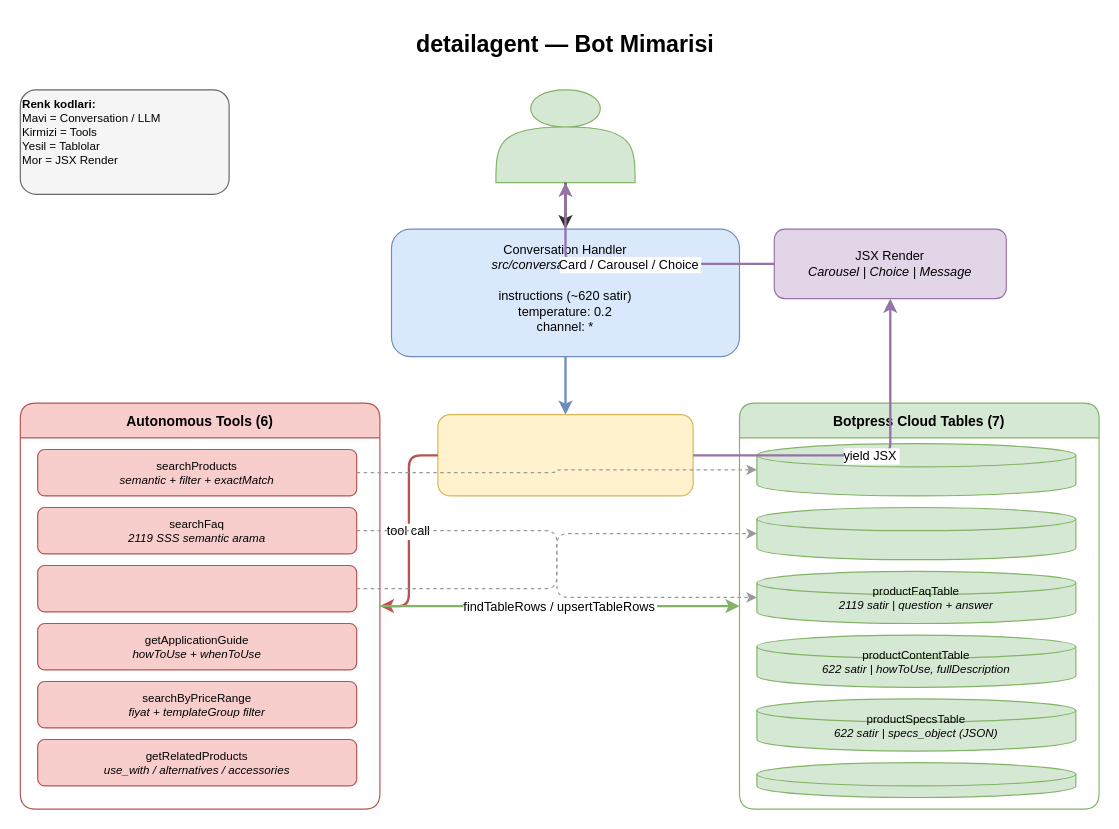
Image size: 1119x829. Some labels were removed from this diagram. Here are the shapes that lost their labels. From the top down, the centre of each, then its label:
At point (565, 136): "Kullanici (webchat / adk chat)".
At point (565, 455): "LLMz Runtime Autonomous Agent Gemini 2.5 Flash".
At point (916, 469): "productSearchIndexTable 622 satir | searchable: search_text".
At point (916, 533): "productsMasterTable 622 satir | url, template_group, sub_type".
At point (197, 588): "getProductDetails 4 tablo paralel JOIN".
At point (916, 780): "productRelationsTable | productCategoriesTable 622 + 75 satir".
